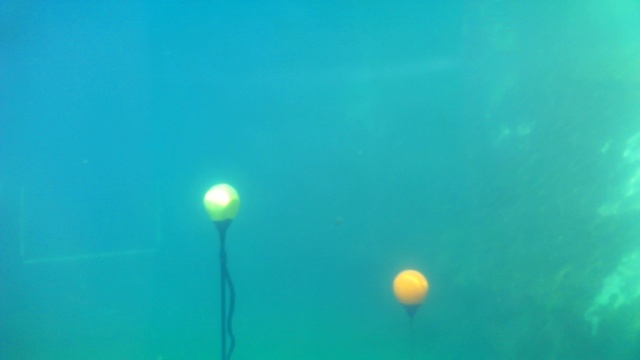buoy_green: (197, 181, 242, 232)
buoy_red: (392, 269, 430, 315)
channel: (19, 181, 161, 262)
